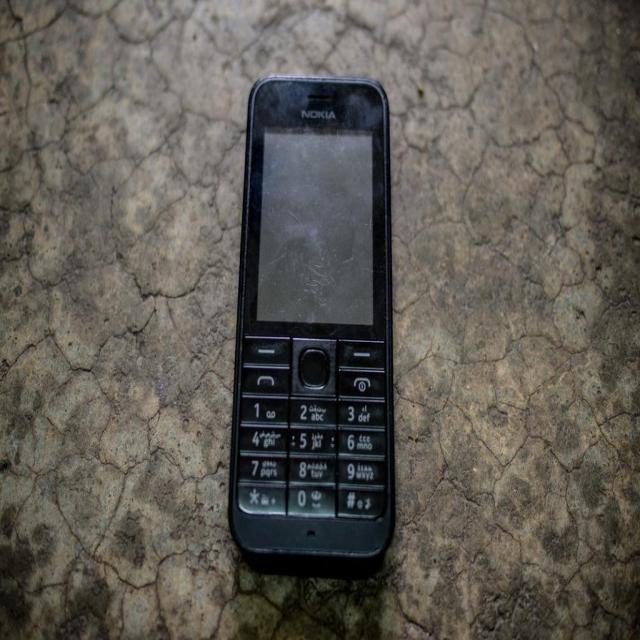Phone: (228, 81, 398, 574)
